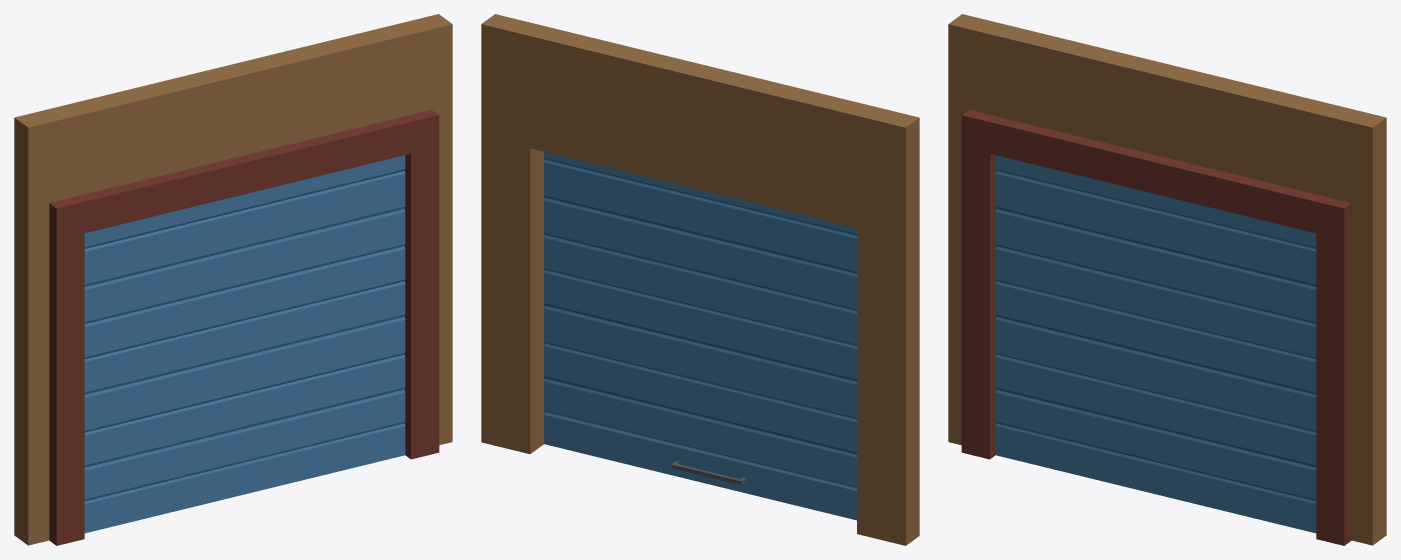
File: Me_Wall_Door_Closed.fbx
3 renders of one model, left to right at view 1: azimuth 30°, elevation 25°; view 2: azimuth 150°, elevation 25°; view 3: azimuth 330°, elevation 25°, orthographic.
Parts seen in each view (by area): view 1: Me_Wall_Door_Closed; view 2: Me_Wall_Door_Closed; view 3: Me_Wall_Door_Closed.
Part boxes in pixels (bbox=[...]): Me_Wall_Door_Closed: bbox=[14, 14, 452, 545]; Me_Wall_Door_Closed: bbox=[481, 14, 919, 545]; Me_Wall_Door_Closed: bbox=[948, 14, 1386, 545].
Size of the model in its own units: 3000 by 262 by 2823.
